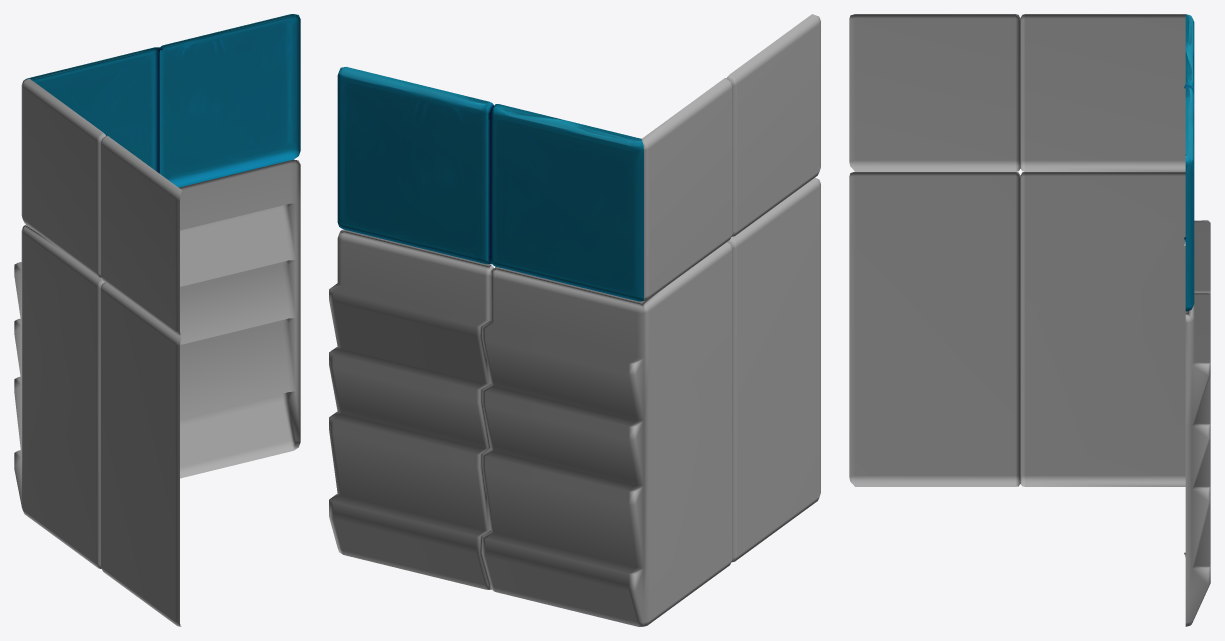
Rendered from WallColumn_v3.fbx.
The picture shows the model from 3 angles, left to right: view 1: azimuth 30°, elevation 25°; view 2: azimuth 150°, elevation 25°; view 3: azimuth 270°, elevation 25°; orthographic projection. The views are drawn at different scales.
Parts seen in each view (by area): view 1: WallColumn_v3; view 2: WallColumn_v3; view 3: WallColumn_v3.
Boxes of the visible parts, left/top/right/bottom form: WallColumn_v3: left=14, top=14, right=300, bottom=626; WallColumn_v3: left=329, top=14, right=820, bottom=626; WallColumn_v3: left=849, top=14, right=1210, bottom=626.
Bounding box in the file's own units: 100 × 150 × 104.
